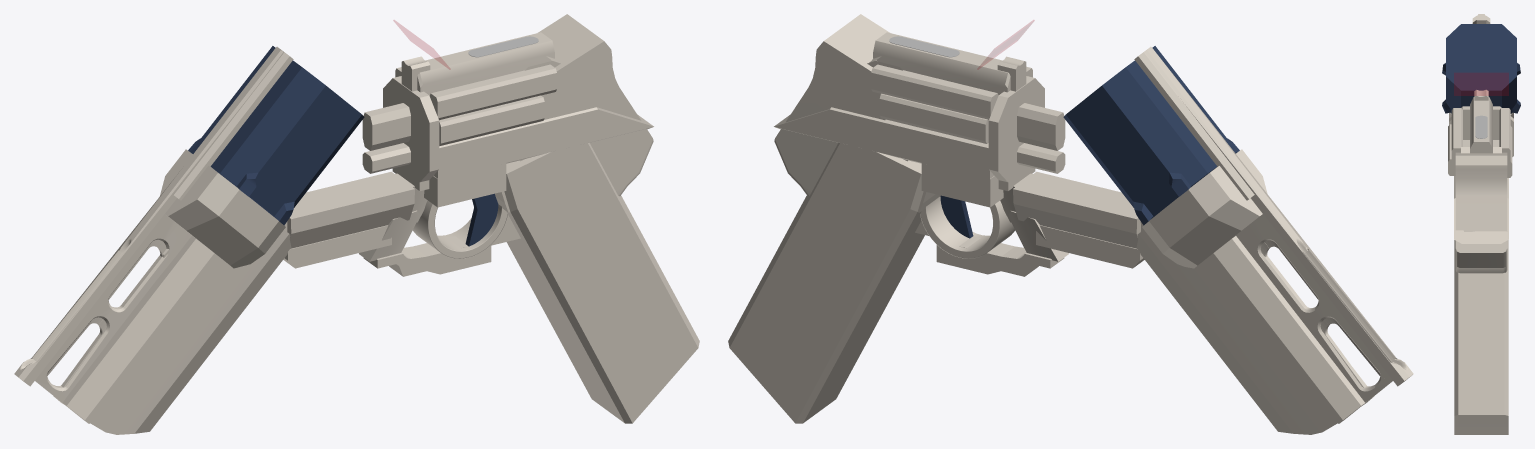
The model's file is prototype_reload.fbx.
The picture shows the model from 3 angles, left to right: view 1: azimuth 30°, elevation 25°; view 2: azimuth 150°, elevation 25°; view 3: azimuth 270°, elevation 25°; orthographic projection. The views are drawn at different scales.
Visible parts, largest first — view 1: pCube2, pCube87, pCube70, pCube82, pCube43, pCube69, polySurface2, polySurface5, pCube90, pCube14, pCube15, pCube80 (+13 smaller); view 2: pCube2, pCube87, pCube70, pCube82, pCube43, pCube69, polySurface2, polySurface5, pCube90, pCube14, pCube19, pCube80 (+13 smaller); view 3: pCube2, pCube82, pCube70, pCube12, pCube14, pCube69, pCube80, pCube15, pCube19, pCylinder6, pCube16, pCube18 (+3 smaller).
Boxes of the visible parts, bbox=[...] form: pCube2: bbox=[495, 143, 699, 423]; pCube87: bbox=[53, 230, 291, 434]; pCube70: bbox=[188, 46, 364, 225]; pCube82: bbox=[538, 14, 653, 196]; pCube43: bbox=[159, 149, 285, 268]; pCube69: bbox=[433, 107, 653, 179]; polySurface2: bbox=[14, 47, 283, 386]; polySurface5: bbox=[35, 167, 213, 423]; pCube90: bbox=[287, 171, 414, 248]; pCube14: bbox=[417, 32, 554, 95]; pCube15: bbox=[429, 64, 556, 120]; pCube80: bbox=[383, 76, 439, 190]; pCube2: bbox=[728, 143, 940, 423]; pCube87: bbox=[1136, 230, 1374, 434]; pCube70: bbox=[1063, 46, 1239, 225]; pCube82: bbox=[774, 14, 889, 196]; pCube43: bbox=[1142, 149, 1267, 268]; pCube69: bbox=[774, 107, 994, 179]; polySurface2: bbox=[1144, 47, 1413, 386]; polySurface5: bbox=[1214, 167, 1392, 423]; pCube90: bbox=[1013, 171, 1140, 248]; pCube14: bbox=[873, 32, 1010, 94]; pCube19: bbox=[871, 64, 998, 119]; pCube80: bbox=[988, 76, 1044, 190]; pCube2: bbox=[1454, 240, 1508, 434]; pCube82: bbox=[1455, 152, 1507, 273]; pCube70: bbox=[1442, 24, 1520, 113]; pCube12: bbox=[1454, 73, 1508, 95]; pCube14: bbox=[1470, 97, 1492, 153]; pCube69: bbox=[1454, 140, 1508, 243]; pCube80: bbox=[1449, 106, 1513, 156]; pCube15: bbox=[1451, 108, 1462, 164]; pCube19: bbox=[1499, 108, 1510, 164]; pCylinder6: bbox=[1475, 115, 1487, 138]; pCube16: bbox=[1448, 124, 1455, 175]; pCube18: bbox=[1507, 126, 1512, 177].
Bounding box in the file's own units: 9.73 × 6.18 × 1.44.
